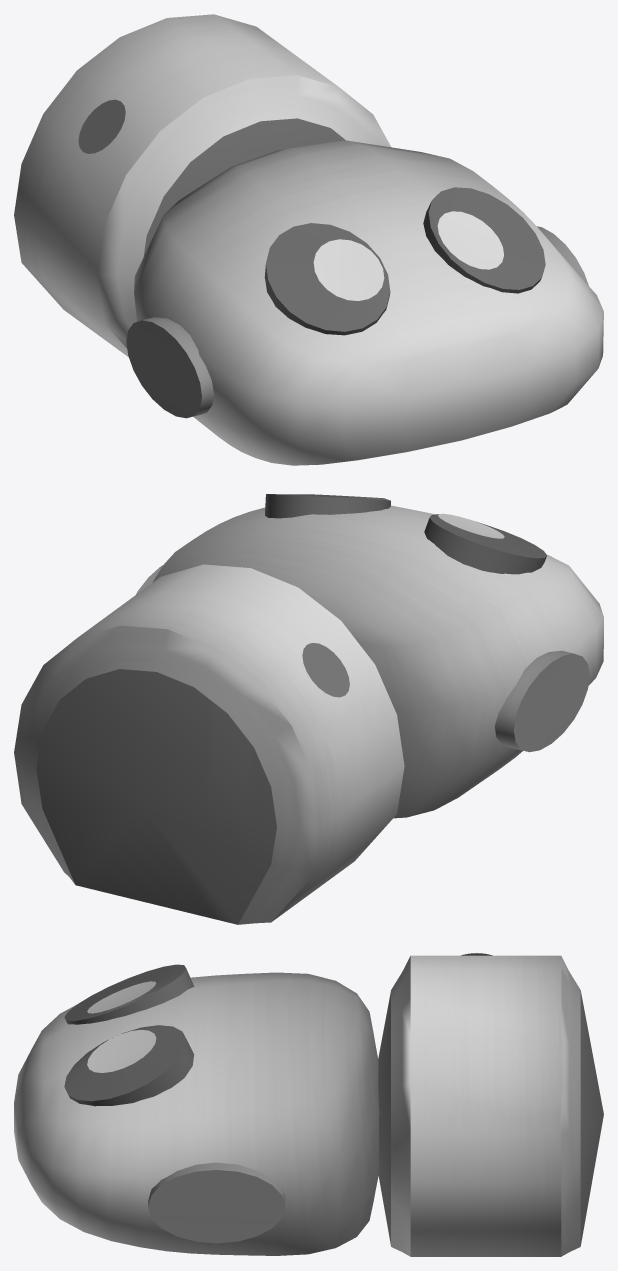
Rendered from Snake.fbx.
The picture shows the model from 3 angles, top to bottom: view 1: azimuth 30°, elevation 25°; view 2: azimuth 150°, elevation 25°; view 3: azimuth 270°, elevation 25°; orthographic projection. The views are drawn at different scales.
Parts seen in each view (by area): view 1: pCube41, pCylinder18; view 2: pCylinder18, pCube41; view 3: pCube41, pCylinder18.
Boxes of the visible parts, x1,y1,x2,y2 form: pCube41: [126, 140, 603, 465]; pCylinder18: [14, 14, 390, 356]; pCylinder18: [14, 564, 404, 924]; pCube41: [136, 494, 603, 818]; pCube41: [14, 964, 379, 1255]; pCylinder18: [378, 953, 603, 1256].
Bounding box in the file's own units: 163 × 107 × 236.
1 material, 1 textured.
